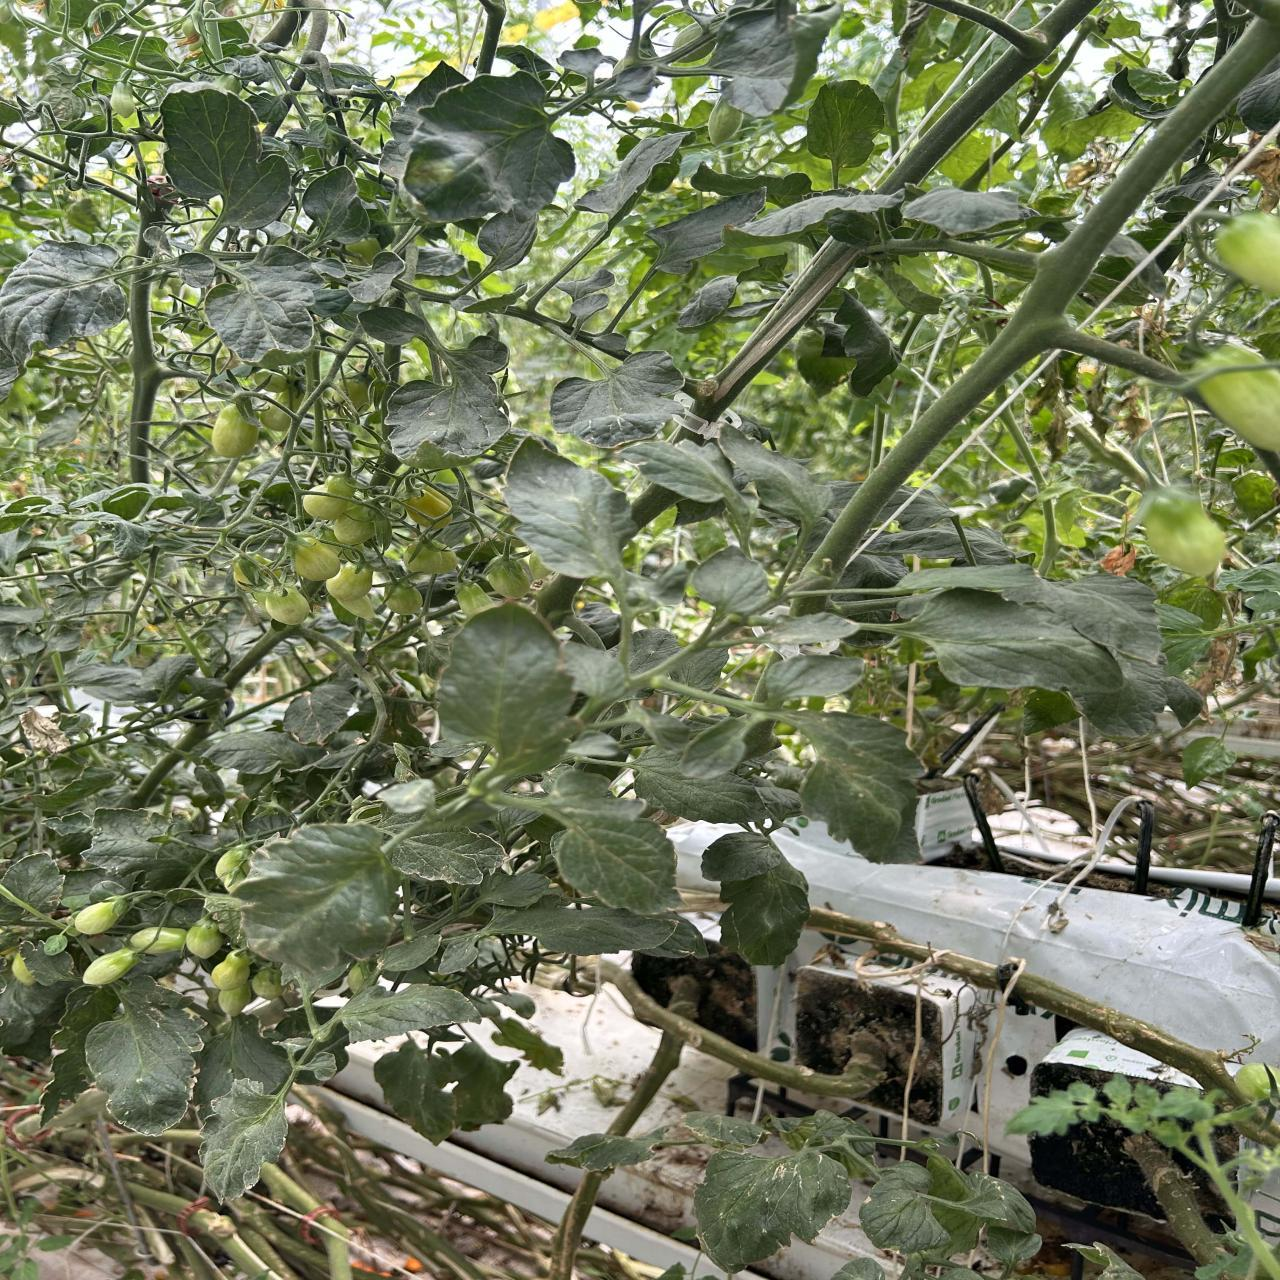Rugose tomato: (1135, 486, 1225, 577)
